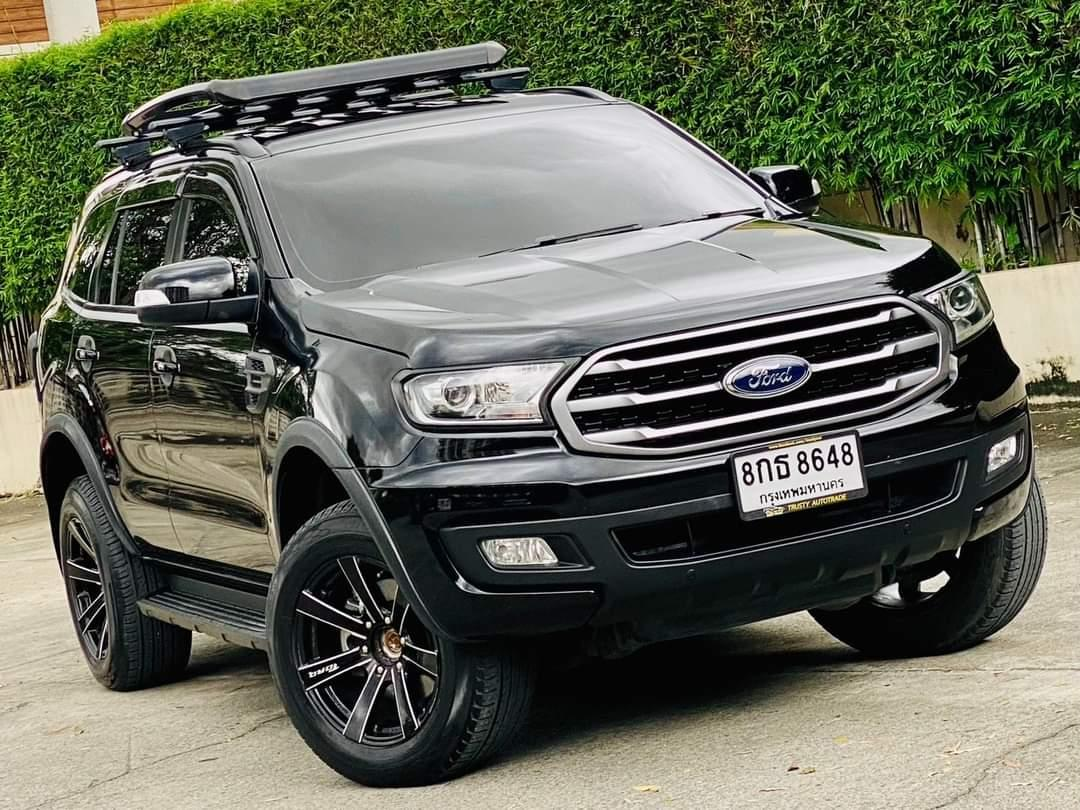license-plate: (723, 428, 871, 527)
